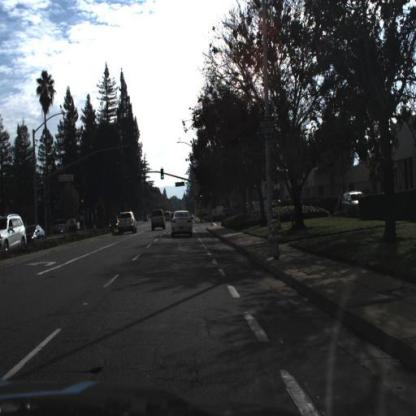car: (338, 188, 372, 219), (0, 214, 26, 253), (170, 202, 192, 238), (23, 224, 46, 245), (340, 188, 362, 208), (118, 212, 136, 235), (148, 209, 166, 232), (220, 204, 244, 220), (46, 221, 64, 236), (55, 222, 70, 235), (161, 208, 173, 223), (108, 216, 118, 228), (142, 214, 147, 222)
trafficLight-Green: (160, 168, 166, 182), (199, 188, 204, 202), (198, 187, 203, 200), (160, 168, 164, 180)
trafficLight-RedLeft: (80, 197, 85, 214), (137, 170, 142, 185), (79, 196, 85, 208), (136, 170, 141, 181)
truck: (66, 215, 80, 229)
